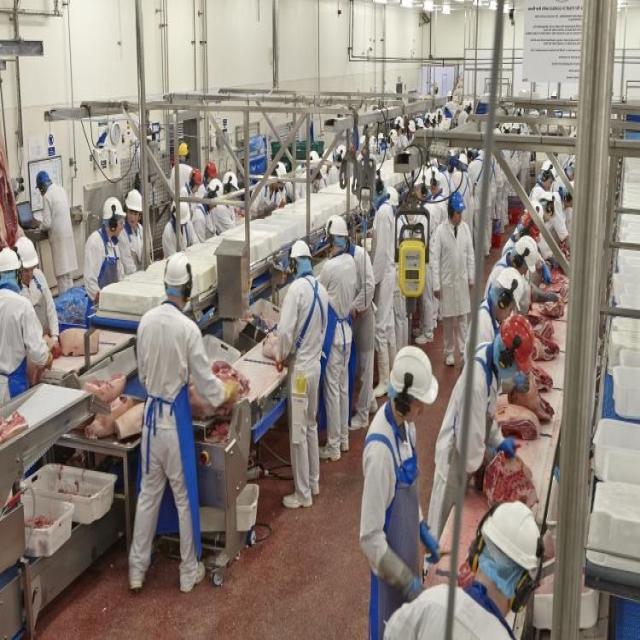Safety-Helmet: (387, 342, 437, 404), (498, 312, 535, 369), (162, 250, 193, 286), (16, 234, 40, 268), (326, 212, 350, 240), (102, 192, 125, 220), (289, 236, 313, 261), (0, 243, 21, 271), (125, 185, 144, 212), (448, 190, 467, 212), (178, 140, 190, 158)
